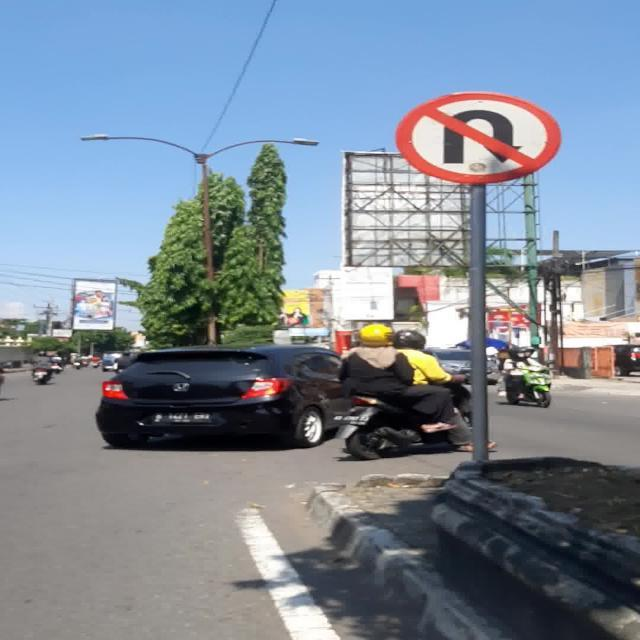Dilarang Putar Balik: (396, 92, 562, 184)
